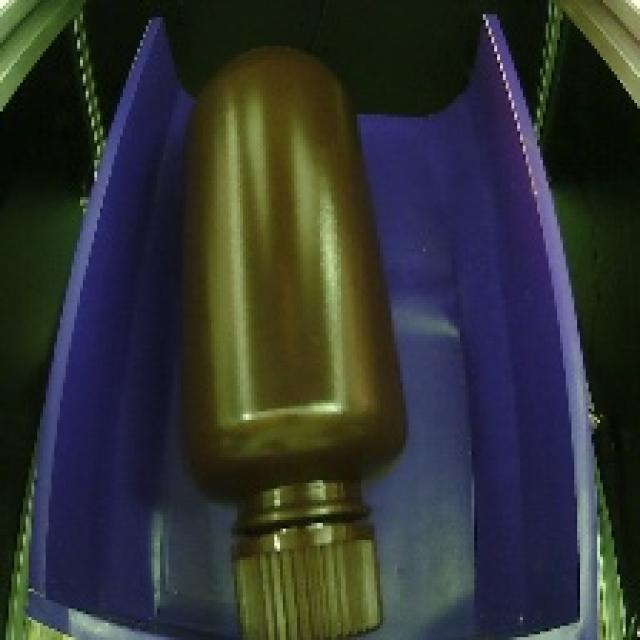plastic: (150, 19, 425, 640)
